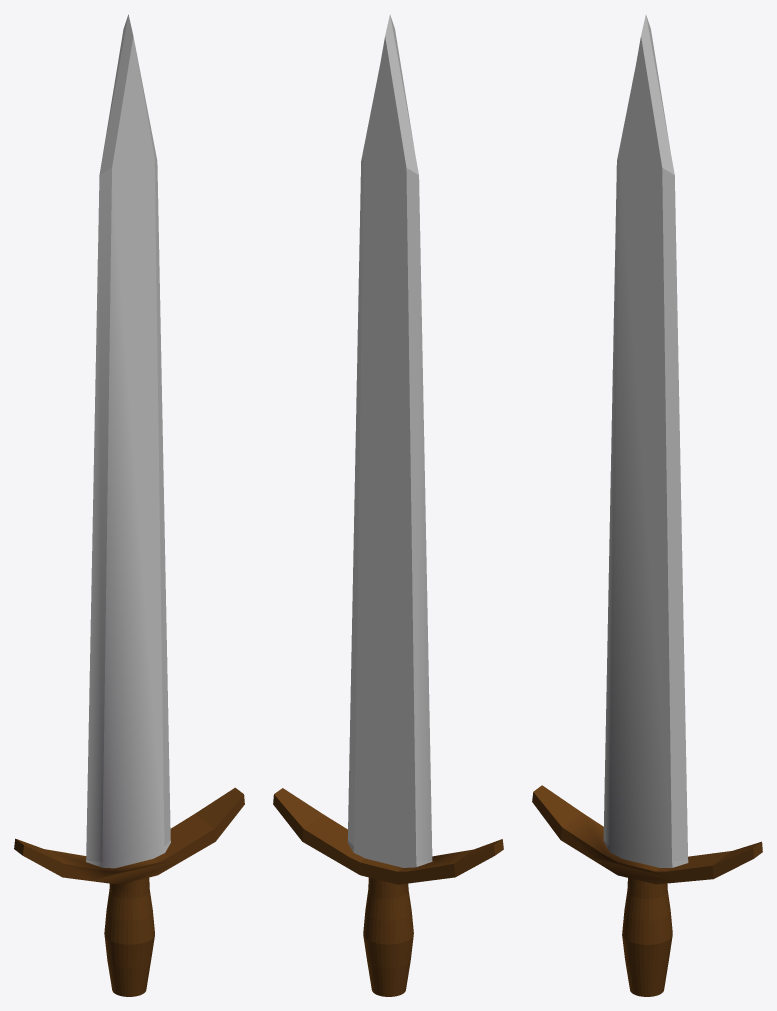
Rendered from SwordTemp.fbx.
3 renders of one model, left to right at view 1: azimuth 30°, elevation 25°; view 2: azimuth 150°, elevation 25°; view 3: azimuth 330°, elevation 25°, orthographic.
Visible parts, largest first — view 1: Plane; view 2: Plane; view 3: Plane.
Part boxes in pixels (x1,y1,x2,y2): Plane: [14, 14, 244, 996]; Plane: [273, 14, 503, 996]; Plane: [532, 15, 762, 996].
Size of the model in its own units: 68.93 by 289 by 13.67.
